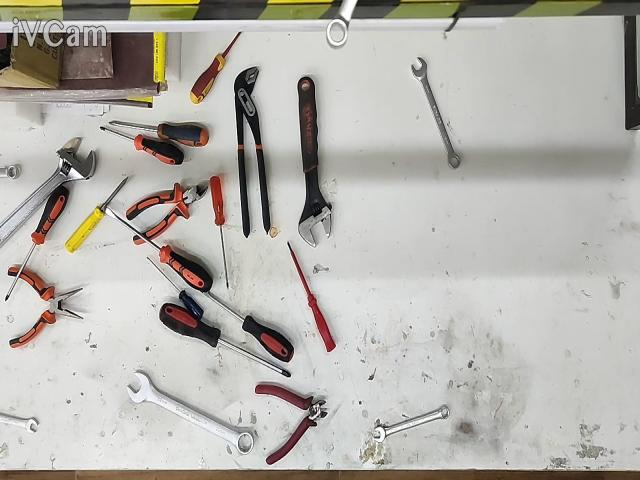Adjustable spanner: (0, 137, 96, 246), (298, 77, 331, 247)
Cutting pliers: (255, 385, 328, 465), (125, 183, 208, 245)
Gas wrench: (234, 67, 271, 237)
Needle-nose pliers: (8, 267, 83, 348)
Screwdriver: (159, 303, 291, 377), (106, 208, 212, 293), (5, 185, 69, 299), (205, 292, 294, 362), (288, 242, 336, 351), (65, 177, 129, 252), (190, 32, 242, 104), (146, 257, 204, 320), (100, 126, 184, 165), (109, 120, 209, 147), (210, 177, 229, 291)
Wrench: (128, 370, 254, 454), (411, 57, 460, 168), (373, 405, 450, 442), (326, 0, 358, 48), (0, 414, 39, 433), (0, 165, 20, 178)
